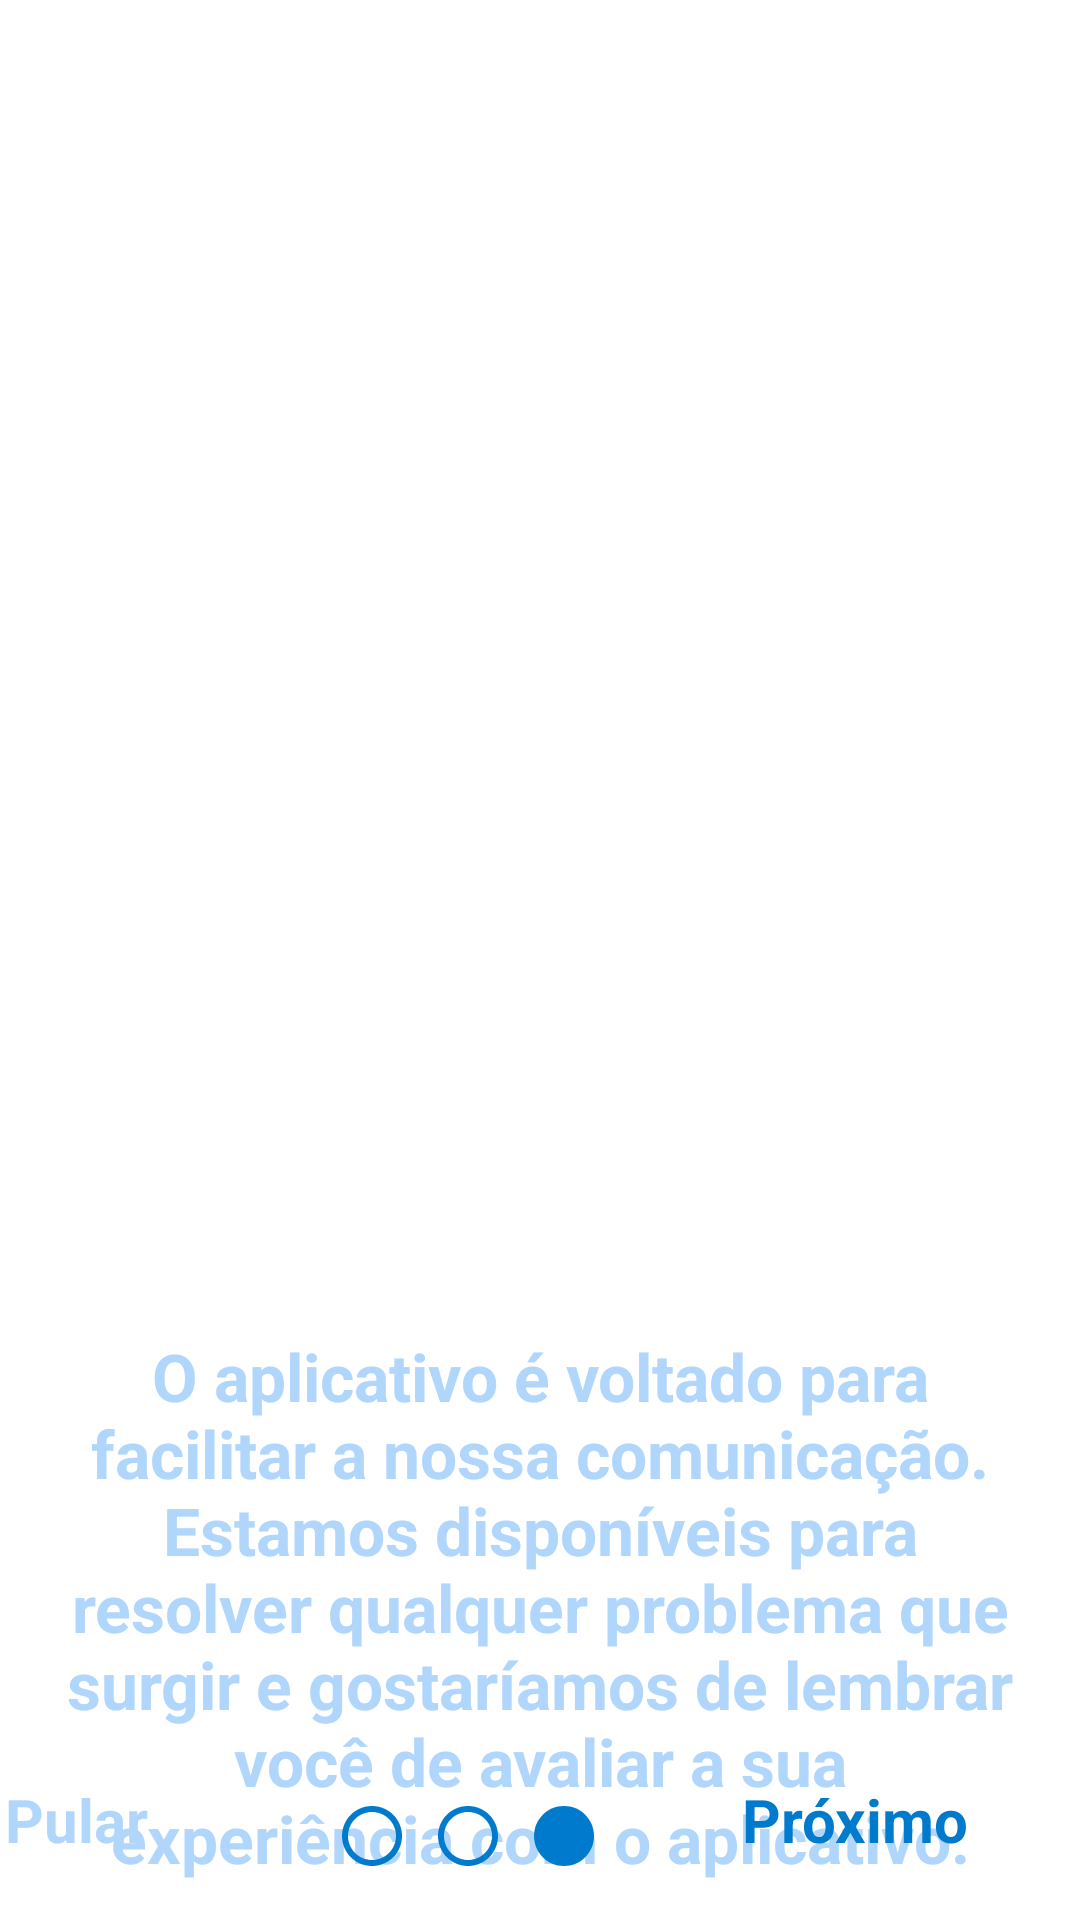

Icons on this 1080px×1920px Android screen, each with the point to tap as [x,y]:
circle: [369,1836], [467,1836]
circle full: [561,1836]
